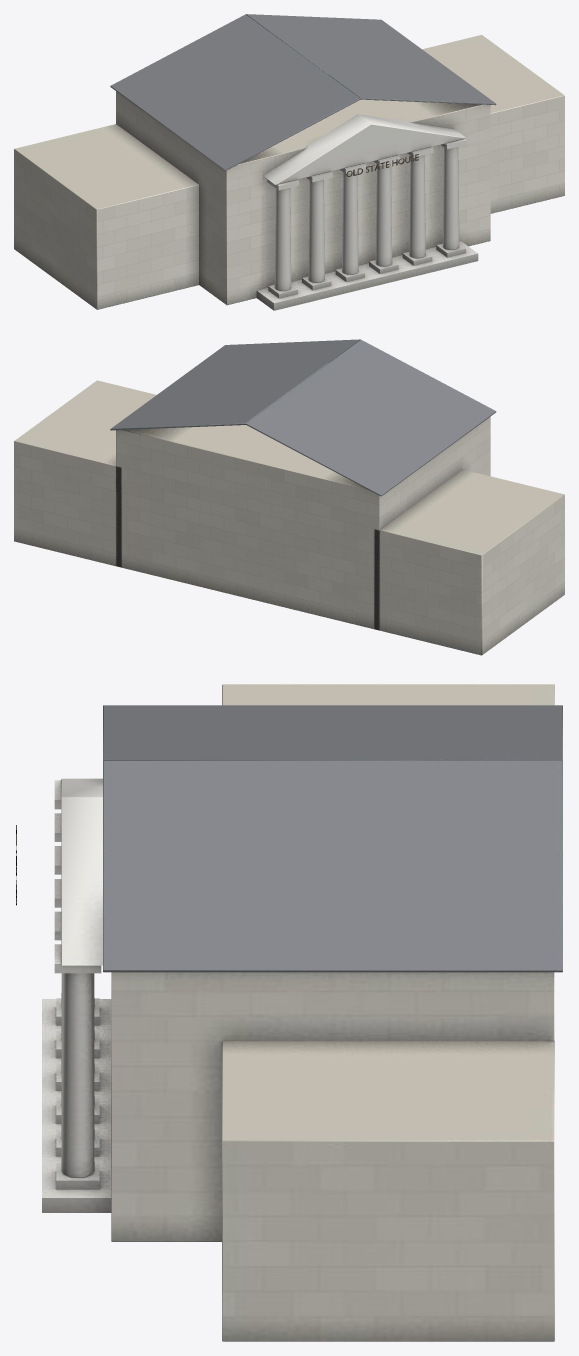
Rendered from old_state_house.glb.
3 views of the same model, one above another, from view 1: azimuth 30°, elevation 25°; view 2: azimuth 150°, elevation 25°; view 3: azimuth 270°, elevation 25° (orthographic). The views are drawn at different scales.
Parts seen in each view (by area): view 1: old_state_house; view 2: old_state_house; view 3: old_state_house.
Part boxes in pixels (x1,y1,x2,y2): old_state_house: [14, 14, 564, 310]; old_state_house: [14, 339, 564, 655]; old_state_house: [16, 684, 562, 1341].
Size of the model in its own units: 39 by 14.05 by 19.74.
1 material, 1 textured.
